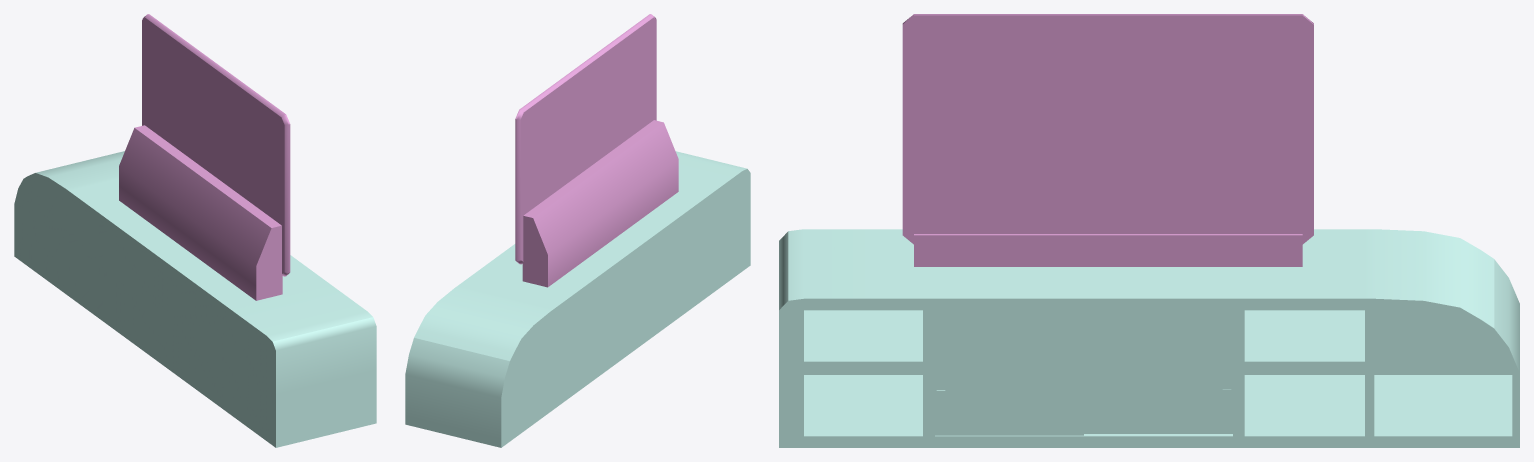
Rendered from Fbx_Prop_Lab_Tv_With_Stand.fbx.
3 views of the same model, side by side, from view 1: azimuth 30°, elevation 25°; view 2: azimuth 150°, elevation 25°; view 3: azimuth 270°, elevation 25° (orthographic). The views are drawn at different scales.
Visible parts, largest first — view 1: Stand_Base, Tv, Tv_Support; view 2: Stand_Base, Tv, Tv_Support; view 3: Stand_Base, Tv, Stand_Door_Left, Stand_Door_Right, Tv_Support.
Boxes of the visible parts, x1,y1,x2,y2 form: Stand_Base: [14, 151, 376, 447]; Tv: [142, 14, 290, 276]; Tv_Support: [119, 125, 282, 300]; Stand_Base: [405, 151, 750, 447]; Tv: [515, 14, 656, 264]; Tv_Support: [522, 120, 678, 287]; Stand_Base: [779, 229, 1519, 447]; Tv: [902, 14, 1313, 244]; Stand_Door_Left: [935, 310, 1083, 435]; Stand_Door_Right: [1084, 310, 1232, 433]; Tv_Support: [914, 244, 1302, 266].
Size of the model in its own units: 100 by 270 by 450.
